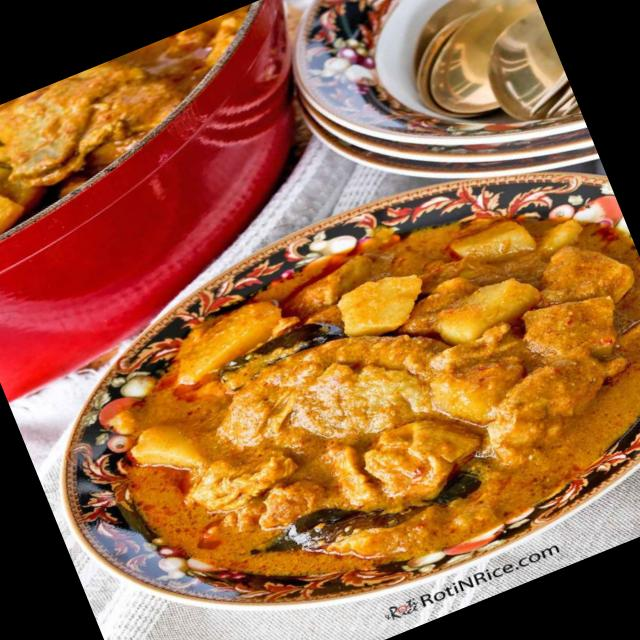chicken: (1, 146, 640, 640), (0, 60, 175, 236)
